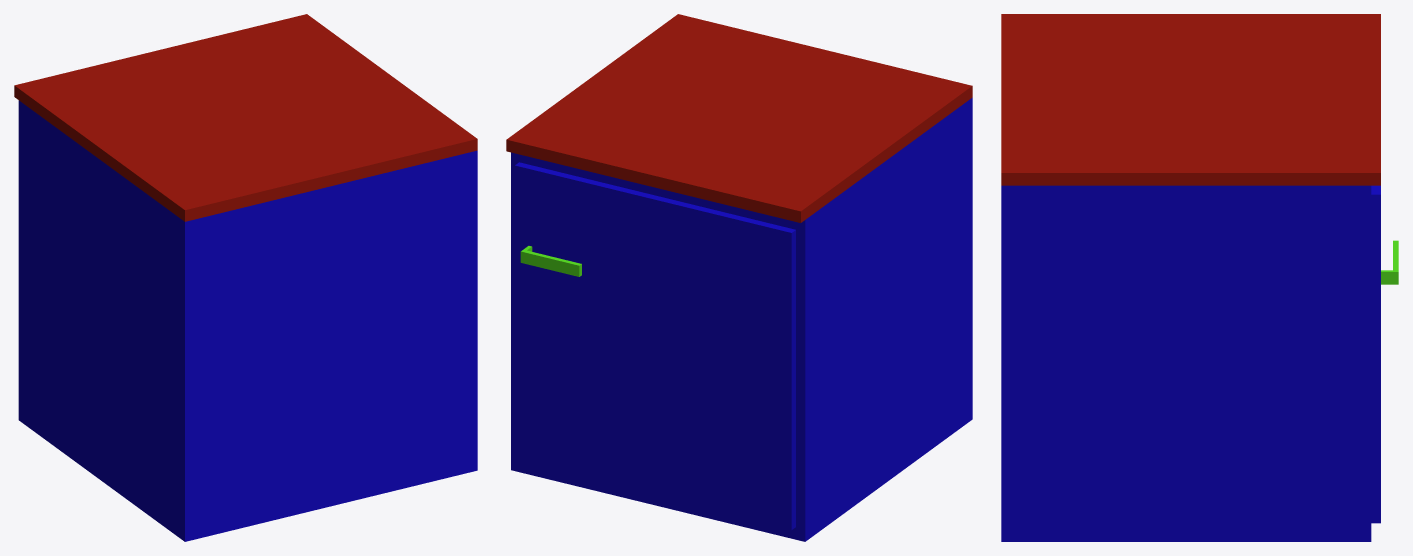
File: P_PlanDeTravail_01_Colored_Unbreakable.fbx
3 views of the same model, side by side, from view 1: azimuth 30°, elevation 25°; view 2: azimuth 150°, elevation 25°; view 3: azimuth 270°, elevation 25° (orthographic). The views are drawn at different scales.
Parts seen in each view (by area): view 1: P_PlanDeTravail_01_Colored_Unbreakable; view 2: P_PlanDeTravail_01_Colored_Unbreakable; view 3: P_PlanDeTravail_01_Colored_Unbreakable.
Boxes of the visible parts, left/top/right/bottom form: P_PlanDeTravail_01_Colored_Unbreakable: left=14, top=14, right=477, bottom=541; P_PlanDeTravail_01_Colored_Unbreakable: left=506, top=14, right=972, bottom=541; P_PlanDeTravail_01_Colored_Unbreakable: left=1001, top=14, right=1398, bottom=541.
Size of the model in its own units: 84.06 by 91.06 by 88.82.
